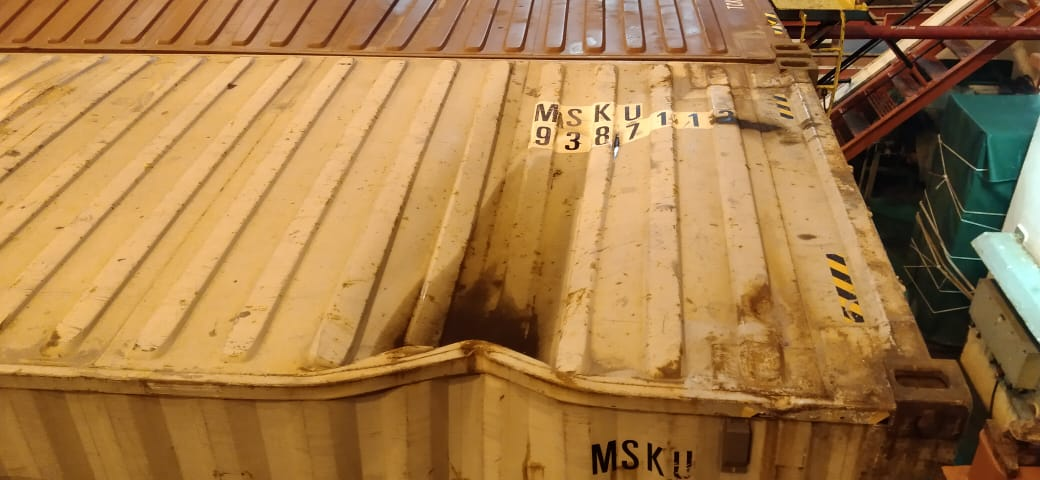dented: (349, 242, 581, 405)
